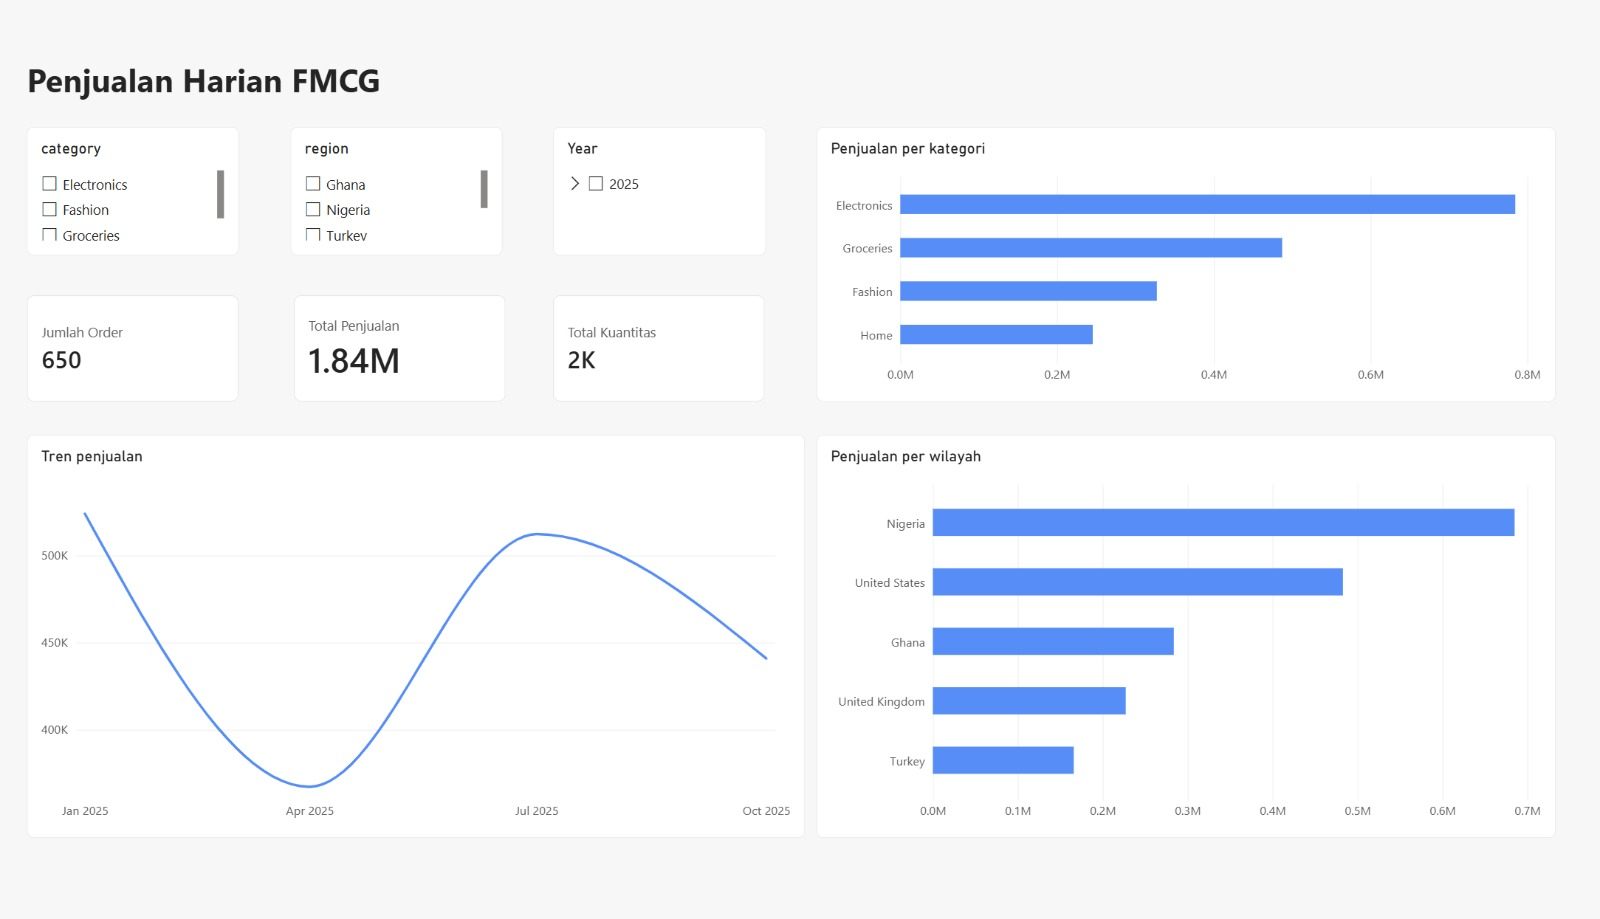

The page's visual inventory and layout, read from the dashboard file:
{"tool":"powerbi","page":{"name":"Overview","canvas":[1920,1080],"ordinal":0},"visuals":[{"type":"textbox","box":[68.6,69.9,436,58.2],"z":0},{"type":"cardVisual","fields":{"Data":["Sum(mart_daily_sales.total_sales)"]},"box":[380.4,346.7,247.1,124.2],"z":1000},{"type":"cardVisual","fields":{"Data":["Sum(mart_daily_sales.n_orders)"]},"box":[68.6,346.7,247.1,124.2],"z":2000},{"type":"lineChart","title":"Tren penjualan","fields":{"Category":["mart_daily_sales.order_date.Variation.Date Hierarchy.Year","mart_daily_sales.order_date.Variation.Date Hierarchy.Quarter","mart_daily_sales.order_date.Variation.Date Hierarchy.Month","mart_daily_sales.order_date.Variation.Date Hierarchy.Day"],"Y":["Sum(mart_daily_sales.total_sales)"]},"box":[68.6,509.8,908.2,470.9],"z":3000},{"type":"barChart","title":"Penjualan per kategori ","fields":{"Category":["mart_daily_sales.category"],"Y":["Sum(mart_daily_sales.total_sales)"]},"box":[990.2,149.9,863,320.9],"z":4000},{"type":"listSlicer","fields":{"Values":["mart_daily_sales.category"]},"box":[68.6,150.1,247.1,150.1],"z":5000},{"type":"listSlicer","fields":{"Values":["mart_daily_sales.region"]},"box":[376.5,150.1,247.1,150.1],"z":6000},{"type":"listSlicer","fields":{"Values":["mart_daily_sales.order_date.Variation.Date Hierarchy.Year","mart_daily_sales.order_date.Variation.Date Hierarchy.Quarter","mart_daily_sales.order_date.Variation.Date Hierarchy.Month","mart_daily_sales.order_date.Variation.Date Hierarchy.Day"]},"box":[683.1,150.1,248.4,150.1],"z":7000},{"type":"cardVisual","fields":{"Data":["Sum(mart_daily_sales.total_qty)"]},"box":[683.1,346.7,247.1,124.2],"z":8000},{"type":"barChart","title":"Penjualan per wilayah","fields":{"Category":["mart_daily_sales.region"],"Y":["Sum(mart_daily_sales.total_sales)"]},"box":[989.8,509.8,863,470.9],"z":9000}]}

Visuals, with their boxes in screenshot pixels (x1, y1, x2, y2), scaled from the page's 1920x1080 canvas onto the 1600x919 screenshot:
textbox: locate(57, 59, 421, 109)
cardVisual - Sum(mart_daily_sales.total_sales): locate(317, 295, 523, 401)
cardVisual - Sum(mart_daily_sales.n_orders): locate(57, 295, 263, 401)
"Tren penjualan" lineChart: locate(57, 434, 814, 835)
"Penjualan per kategori " barChart: locate(825, 128, 1544, 401)
listSlicer - mart_daily_sales.category: locate(57, 128, 263, 255)
listSlicer - mart_daily_sales.region: locate(314, 128, 520, 255)
listSlicer - mart_daily_sales.order_date.Variation.Date Hierarchy.Year x mart_daily_sales.order_date.Variation.Date Hierarchy.Quarter: locate(569, 128, 776, 255)
cardVisual - Sum(mart_daily_sales.total_qty): locate(569, 295, 775, 401)
"Penjualan per wilayah" barChart: locate(825, 434, 1544, 835)
